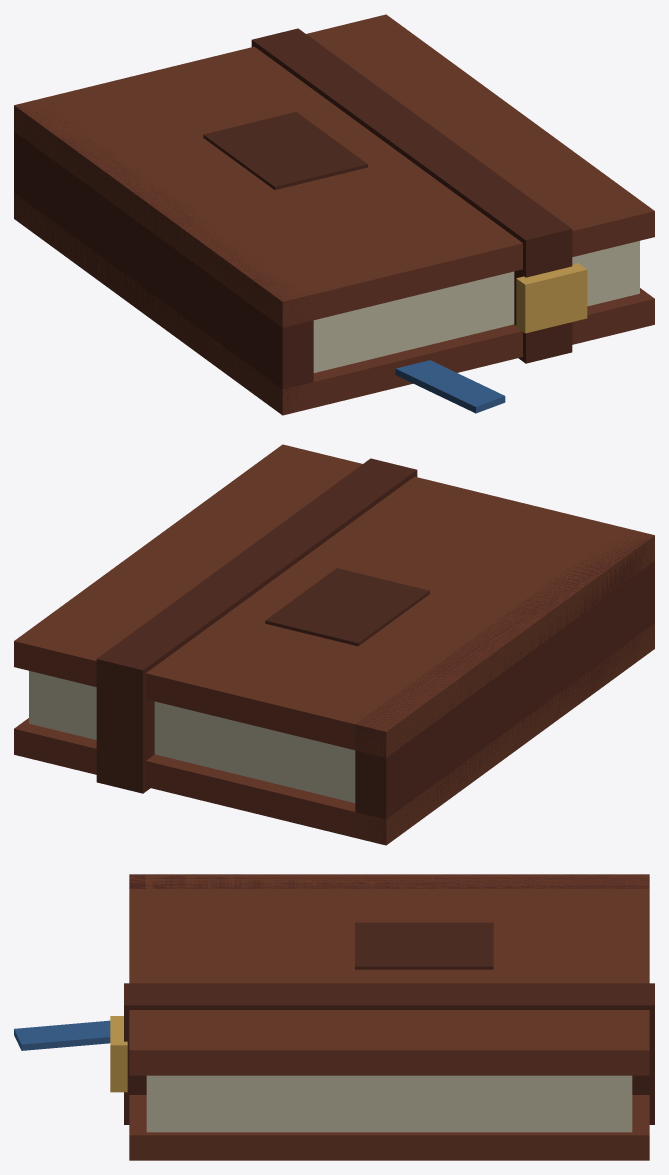
The model's file is quest_journal.glb.
The picture shows the model from 3 angles, top to bottom: view 1: azimuth 30°, elevation 25°; view 2: azimuth 150°, elevation 25°; view 3: azimuth 270°, elevation 25°; orthographic projection. The views are drawn at different scales.
Parts seen in each view (by area): view 1: quest_journal; view 2: quest_journal; view 3: quest_journal.
Part boxes in pixels (bbox=[...]): quest_journal: bbox=[14, 14, 654, 415]; quest_journal: bbox=[14, 444, 654, 845]; quest_journal: bbox=[14, 874, 654, 1160].
Size of the model in its own units: 0.24 by 0.076 by 0.3695.
